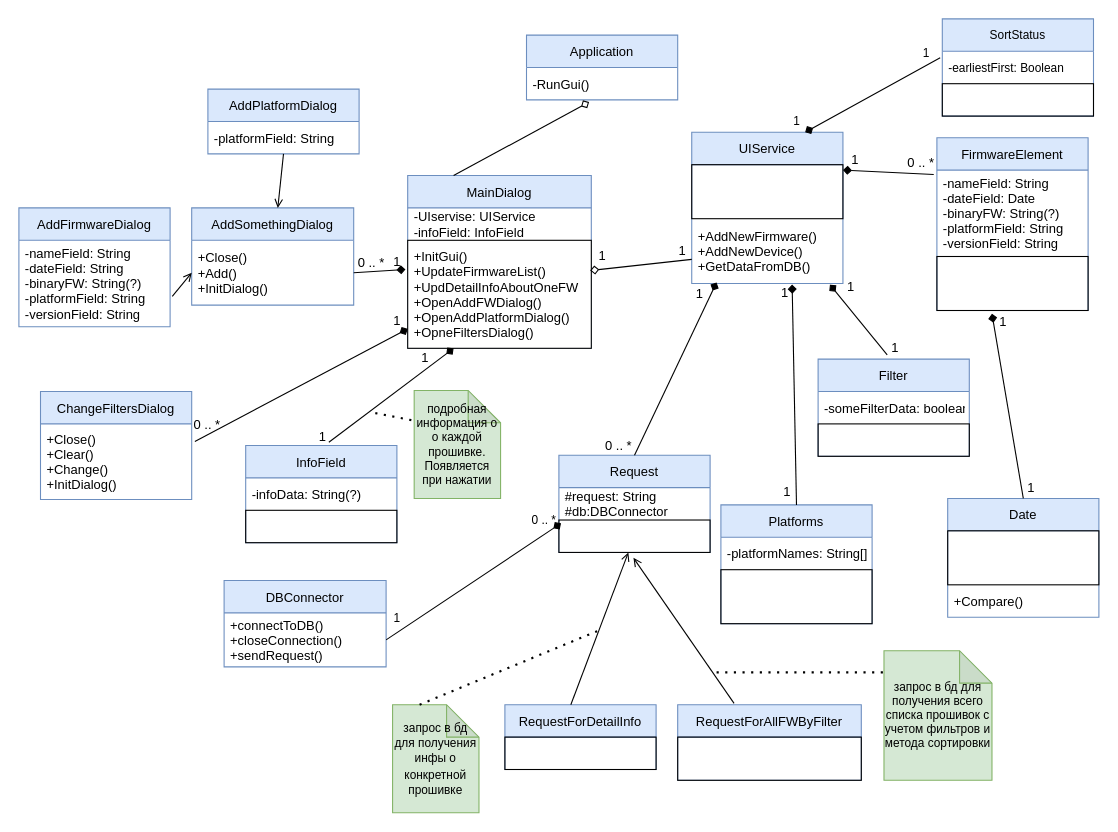
Some shapes in this 1118 by 832 pixel diagram are drawn without their labels. The shapes that lost their labels are listed below. From the top down, each one's centre as x and y in pixels, then its label:
the point at 1017,99: +setValue() +getValue()
the point at 767,191: -f: Filter -p: Platforms -s: SortStatus
the point at 1012,282: +CheckGivenData() +Create() +Delete()
the point at 893,439: +getSomeFilterValue
the point at 321,526: +ChangeData()
the point at 634,535: +Create() +SendToDB()
the point at 1023,557: -day: Integer -month: Integer - year: Integer
the point at 796,596: -CheckUniqueness() +Add() +Delete()
the point at 580,753: +Create()
the point at 769,758: +Create(Filter f, SortStatus s)
